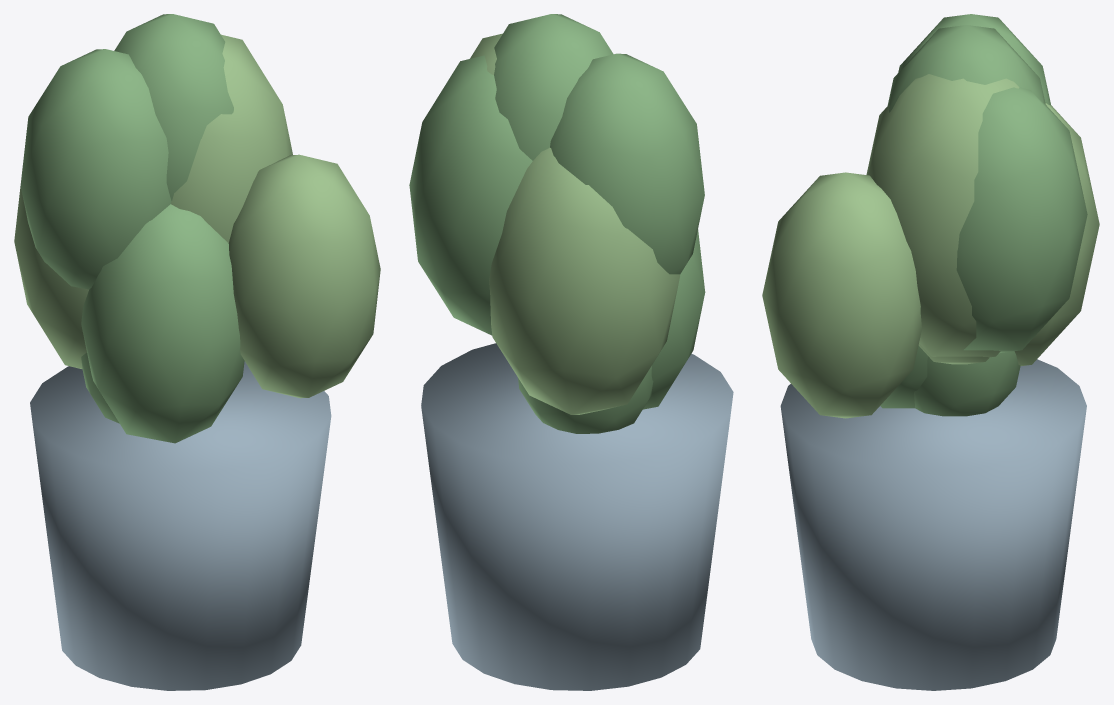
File: potted_plant.glb
3 renders of one model, left to right at view 1: azimuth 30°, elevation 25°; view 2: azimuth 150°, elevation 25°; view 3: azimuth 270°, elevation 25°, orthographic. The views are drawn at different scales.
Visible parts, largest first — view 1: potted_plant; view 2: potted_plant; view 3: potted_plant.
Boxes of the visible parts, left/top/right/bottom form: potted_plant: left=14, top=14, right=380, bottom=690; potted_plant: left=409, top=14, right=733, bottom=690; potted_plant: left=762, top=14, right=1099, bottom=690.
Size of the model in its own units: 0.5239 by 1.11 by 0.5507.
